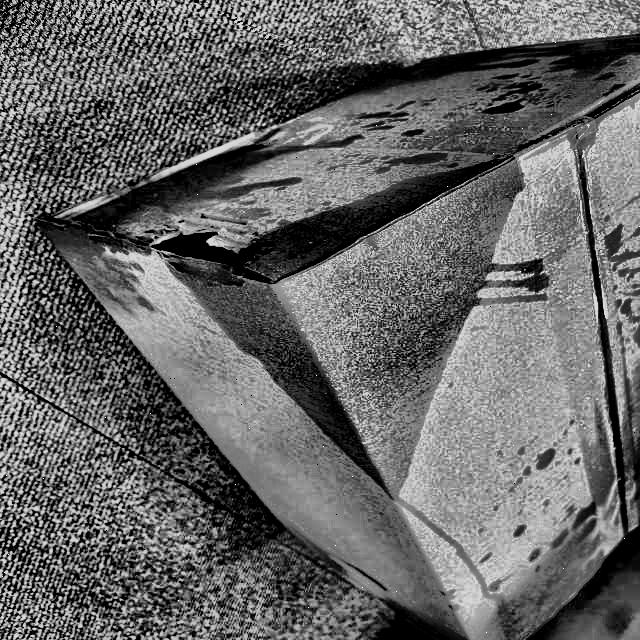box: (24, 21, 639, 640)
hole: (147, 226, 245, 273)
wet: (155, 162, 526, 494), (46, 163, 179, 286), (481, 525, 613, 640)
